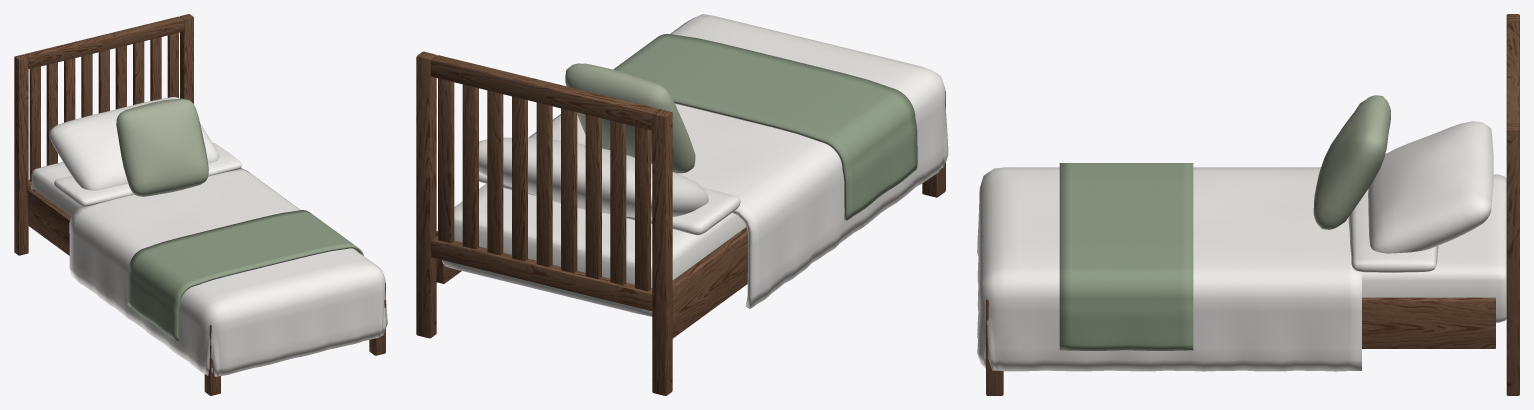
Rendered from cama_listones_90.glb.
3 renders of one model, left to right at view 1: azimuth 30°, elevation 25°; view 2: azimuth 150°, elevation 25°; view 3: azimuth 270°, elevation 25°, orthographic. The views are drawn at different scales.
Parts seen in each view (by area): view 1: cama_listones_90; view 2: cama_listones_90; view 3: cama_listones_90.
Part boxes in pixels (x1=…): cama_listones_90: x1=14, y1=14, x2=387, y2=395; cama_listones_90: x1=416, y1=14, x2=948, y2=395; cama_listones_90: x1=977, y1=14, x2=1519, y2=395.
Size of the model in its own units: 1.12 by 1.1 by 2.03.
4 materials, 4 textured.
